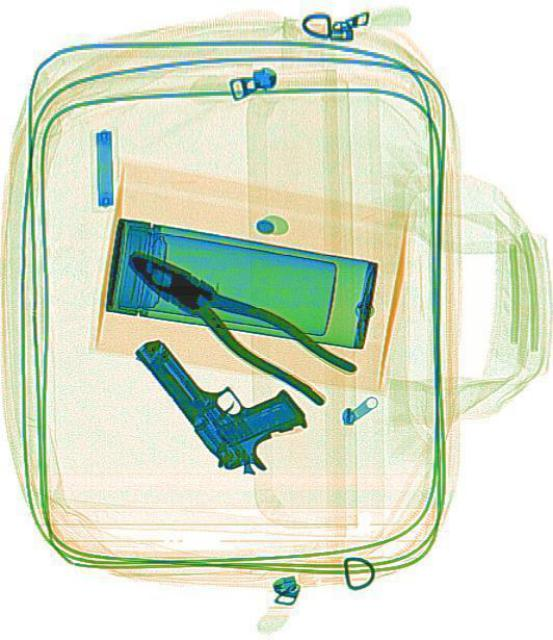Gun: (131, 288, 312, 490)
Pliers: (116, 226, 355, 416)
